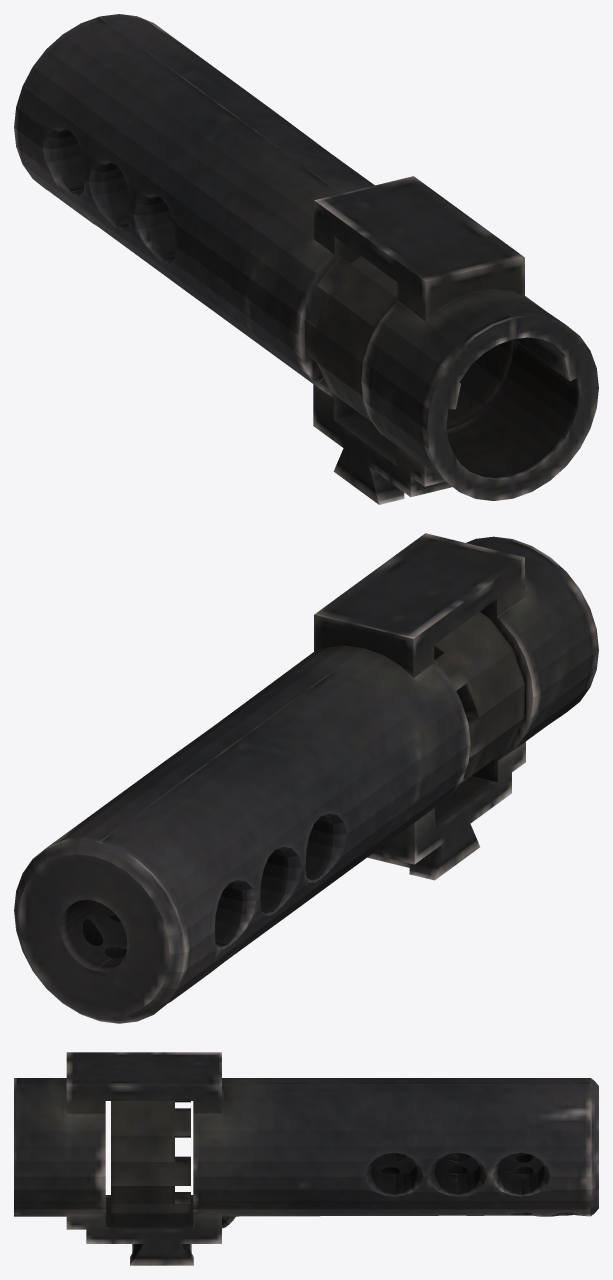
The picture shows the model from 3 angles, top to bottom: view 1: azimuth 30°, elevation 25°; view 2: azimuth 150°, elevation 25°; view 3: azimuth 270°, elevation 25°; orthographic projection. The views are drawn at different scales.
Parts seen in each view (by area): view 1: TW_5addbb945acfc4001a5fc44e_PZ_Import; view 2: TW_5addbb945acfc4001a5fc44e_PZ_Import; view 3: TW_5addbb945acfc4001a5fc44e_PZ_Import.
Part boxes in pixels (x1=…): TW_5addbb945acfc4001a5fc44e_PZ_Import: x1=14, y1=14, x2=598, y2=504; TW_5addbb945acfc4001a5fc44e_PZ_Import: x1=14, y1=533, x2=598, y2=1023; TW_5addbb945acfc4001a5fc44e_PZ_Import: x1=14, y1=1052, x2=598, y2=1265.
Size of the model in its own units: 0.0121 by 0.051 by 0.0172.
1 material, 1 textured.
